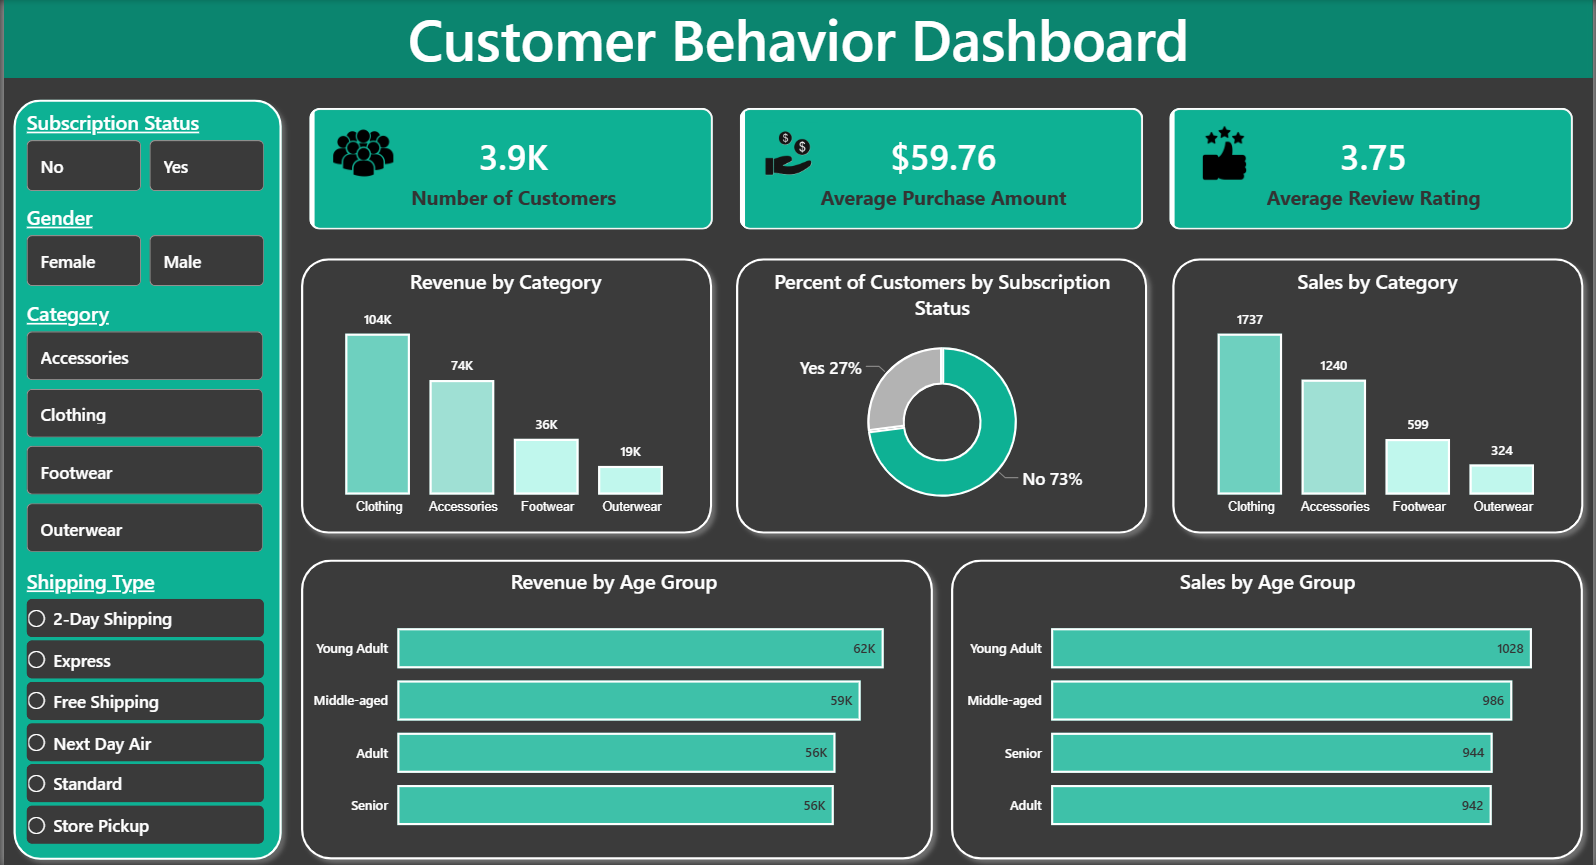

This screenshot's page, from the dashboard's own definition file:
{"tool":"powerbi","page":{"name":"Page 1","canvas":[1500,820],"ordinal":0},"visuals":[{"type":"shape","box":[0,84.5,271.2,735.8],"z":0},{"type":"textbox","title":"Customer Behavior Dashboard","box":[0,0,1500.3,73.6],"z":1000},{"type":"cardVisual","fields":{"Data":["Measuress.Number of Customers","Measuress.Average Purchase Amount","Measuress.Average Review Rating"]},"box":[270.9,84.5,1229.1,149.9],"z":2000},{"type":"shape","box":[271.2,234.4,406.1,278],"z":3000},{"type":"shape","box":[682.5,234.4,406.1,278],"z":4000},{"type":"shape","box":[1093.9,234.4,406.1,278],"z":5000},{"type":"shape","box":[885.7,519.2,614.6,301.1],"z":6000},{"type":"shape","box":[271.2,519.2,614.6,301.1],"z":7000},{"type":"donutChart","title":"Percent of Customers by Subscription Status","fields":{"Category":["customer.subscription_status"],"Y":["CountNonNull(customer.customer_id)"]},"box":[695,252.1,381.5,242.6],"z":8000},{"type":"clusteredColumnChart","title":"Revenue by Category","fields":{"Category":["customer.category"],"Y":["Sum(customer.purchase_amount)"]},"box":[286.2,252.1,376.1,242.6],"z":9000},{"type":"clusteredColumnChart","title":"Sales by Category","fields":{"Category":["customer.category"],"Y":["CountNonNull(customer.customer_id)"]},"box":[1109.2,252.1,374.7,242.6],"z":10000},{"type":"clusteredBarChart","title":"Revenue by Age Group","fields":{"Category":["customer.age_group"],"Y":["Sum(customer.purchase_amount)"]},"box":[286.2,535.5,580.5,269.8],"z":11000},{"type":"advancedSlicerVisual","fields":{"Values":["customer.subscription_status"]},"box":[16.4,102.2,234.4,83.1],"z":12000},{"type":"advancedSlicerVisual","fields":{"Values":["customer.gender"]},"box":[16.4,192.1,234.4,83.1],"z":13000},{"type":"advancedSlicerVisual","fields":{"Values":["customer.category"]},"box":[16.5,283.6,234,245.4],"z":14000},{"type":"listSlicer","fields":{"Values":["customer.shipping_type"]},"box":[16.4,535.5,234.4,269.8],"z":15000},{"type":"clusteredBarChart","title":"Sales by Age Group","fields":{"Category":["customer.age_group"],"Y":["CountNonNull(customer.customer_id)"]},"box":[903.4,535.5,580.5,269.8],"z":16000},{"type":"image","box":[309,115.7,59.8,57.2],"z":17000},{"type":"image","box":[710.9,115.7,59.8,57.2],"z":18000},{"type":"image","box":[1122.9,115.7,59.8,57.2],"z":19000}]}

Visuals, with their boxes in screenshot pixels (x1, y1, x2, y2), scaled from the page's 1500x820 canvas onto the 1596x865 screenshot:
shape: <box>0,89,289,864</box>
"Customer Behavior Dashboard" textbox: <box>0,0,1595,78</box>
cardVisual - Measuress.Number of Customers x Measuress.Average Purchase Amount: <box>288,89,1595,247</box>
shape: <box>289,247,721,541</box>
shape: <box>726,247,1158,541</box>
shape: <box>1164,247,1595,541</box>
shape: <box>942,548,1595,864</box>
shape: <box>289,548,942,864</box>
"Percent of Customers by Subscription Status" donutChart: <box>739,266,1145,522</box>
"Revenue by Category" clusteredColumnChart: <box>305,266,705,522</box>
"Sales by Category" clusteredColumnChart: <box>1180,266,1579,522</box>
"Revenue by Age Group" clusteredBarChart: <box>305,565,922,849</box>
advancedSlicerVisual - customer.subscription_status: <box>17,108,267,195</box>
advancedSlicerVisual - customer.gender: <box>17,203,267,290</box>
advancedSlicerVisual - customer.category: <box>18,299,267,558</box>
listSlicer - customer.shipping_type: <box>17,565,267,849</box>
"Sales by Age Group" clusteredBarChart: <box>961,565,1579,849</box>
image: <box>329,122,392,182</box>
image: <box>756,122,820,182</box>
image: <box>1195,122,1258,182</box>
